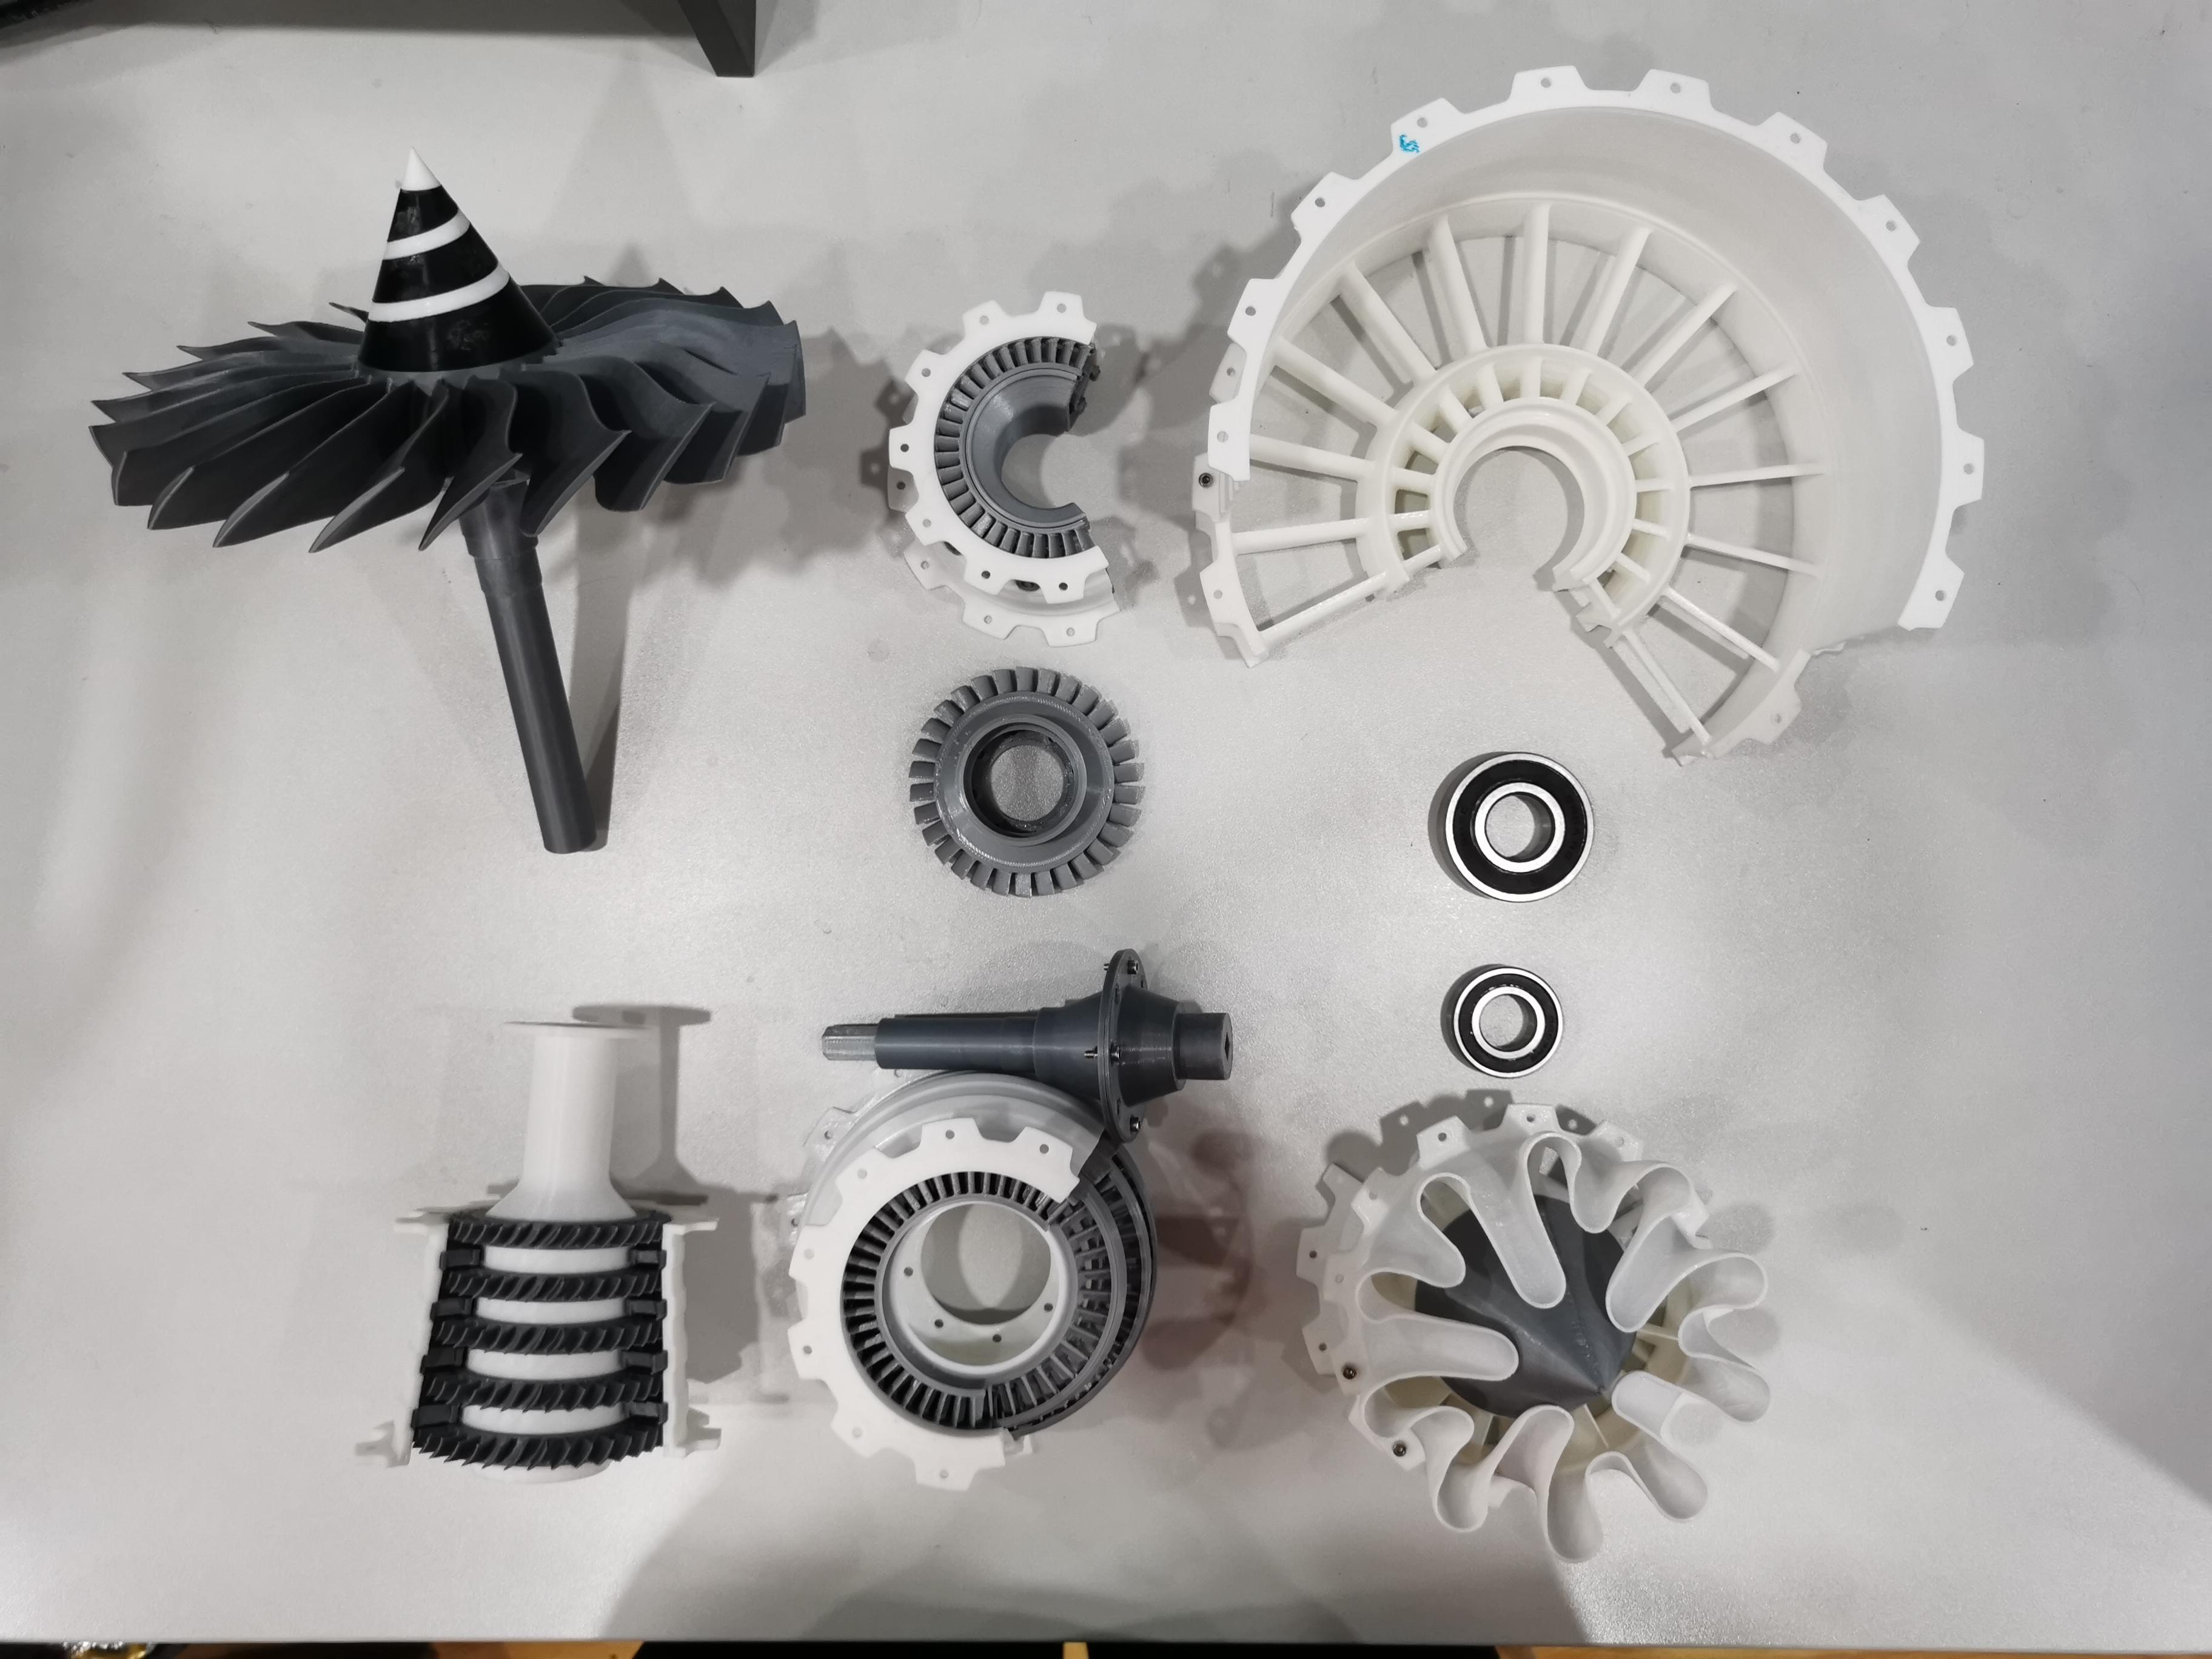Bearing-6003: (1430, 950, 1587, 1087)
Bearing-6204: (1418, 741, 1604, 917)
Combustion Section: (867, 277, 1134, 662)
Fan Casing and Support: (1179, 58, 1998, 772)
Fan and Low Pressure Shaft: (73, 139, 820, 864)
HPT Section: (902, 662, 1151, 904)
High Pressure Spool: (331, 1002, 728, 1509)
LPT Section: (772, 1060, 1186, 1499)
Low Pressure Spool: (796, 934, 1242, 1152)
Nozzle Section: (1285, 1098, 1778, 1572)
